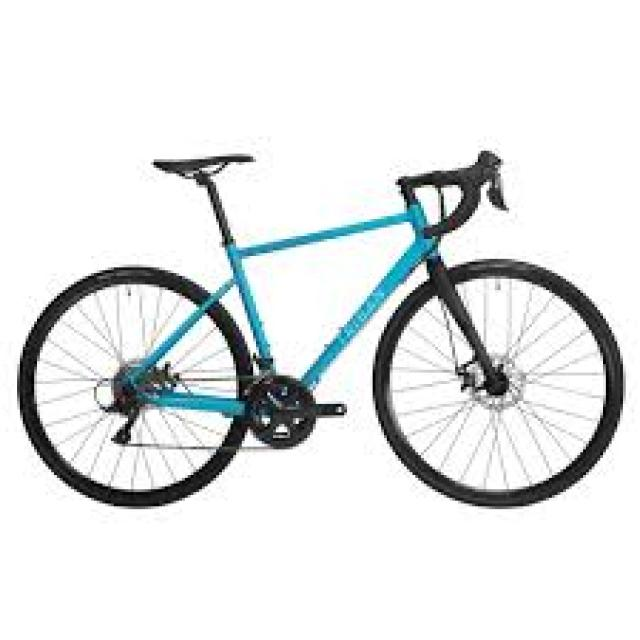road-bike: (14, 150, 632, 512)
